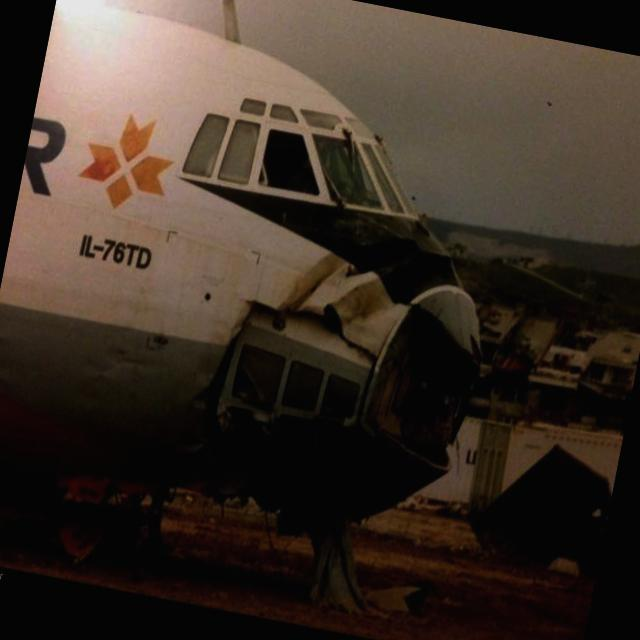dent: (174, 432, 207, 456), (190, 384, 214, 414)
